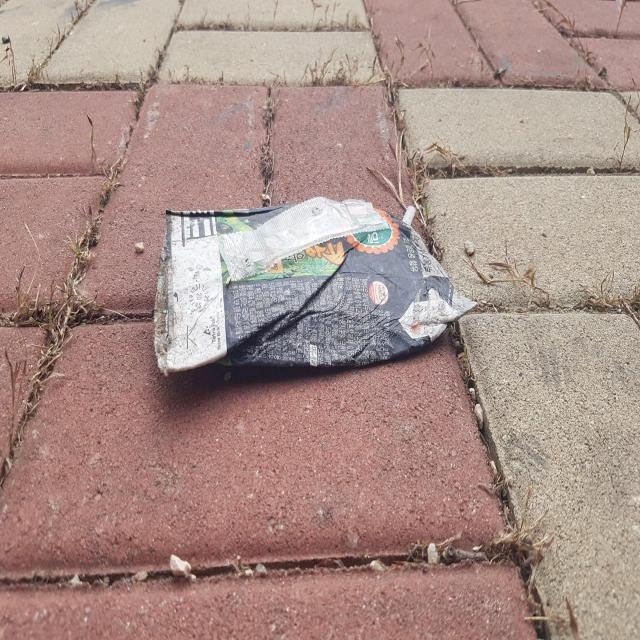paperpack: (154, 196, 475, 374)
